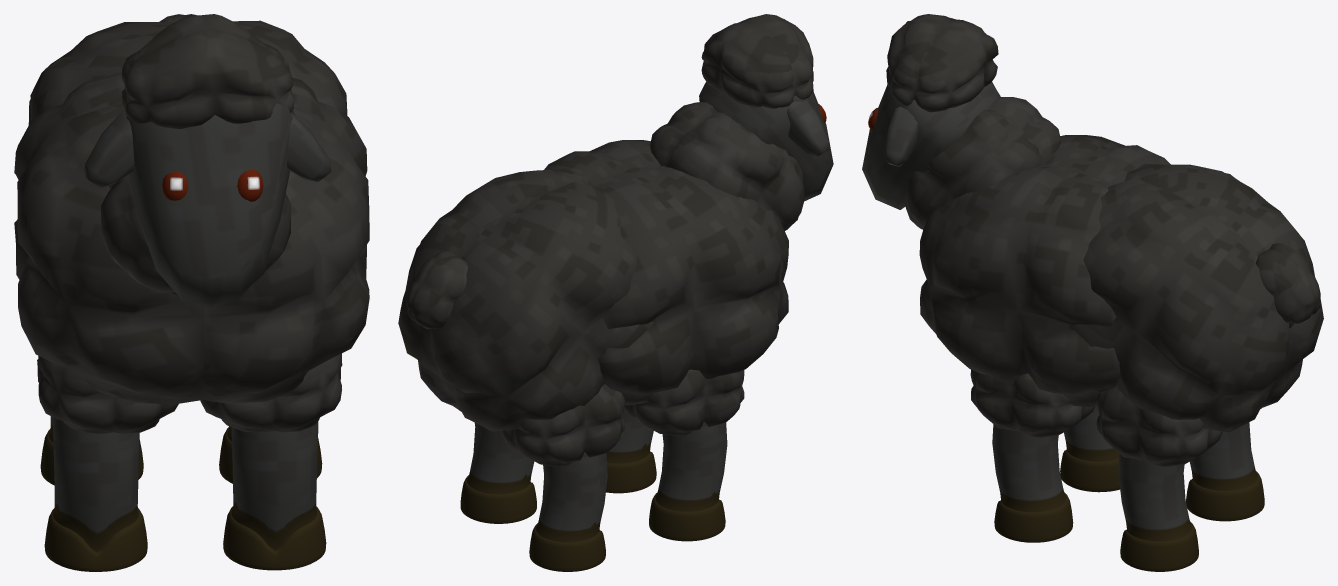
File: Black Sheep.fbx
3 renders of one model, left to right at view 1: azimuth 30°, elevation 25°; view 2: azimuth 150°, elevation 25°; view 3: azimuth 270°, elevation 25°, orthographic. The views are drawn at different scales.
Visible parts, largest first — view 1: Sheep5; view 2: Sheep5; view 3: Sheep5.
Part boxes in pixels (box(x1,y1,x2,y2)): Sheep5: box(14, 14, 369, 571); Sheep5: box(398, 14, 833, 571); Sheep5: box(862, 14, 1323, 571).
Size of the model in its own units: 34.9 by 49.35 by 45.1.
Materials: 1 (1 with a texture image).
